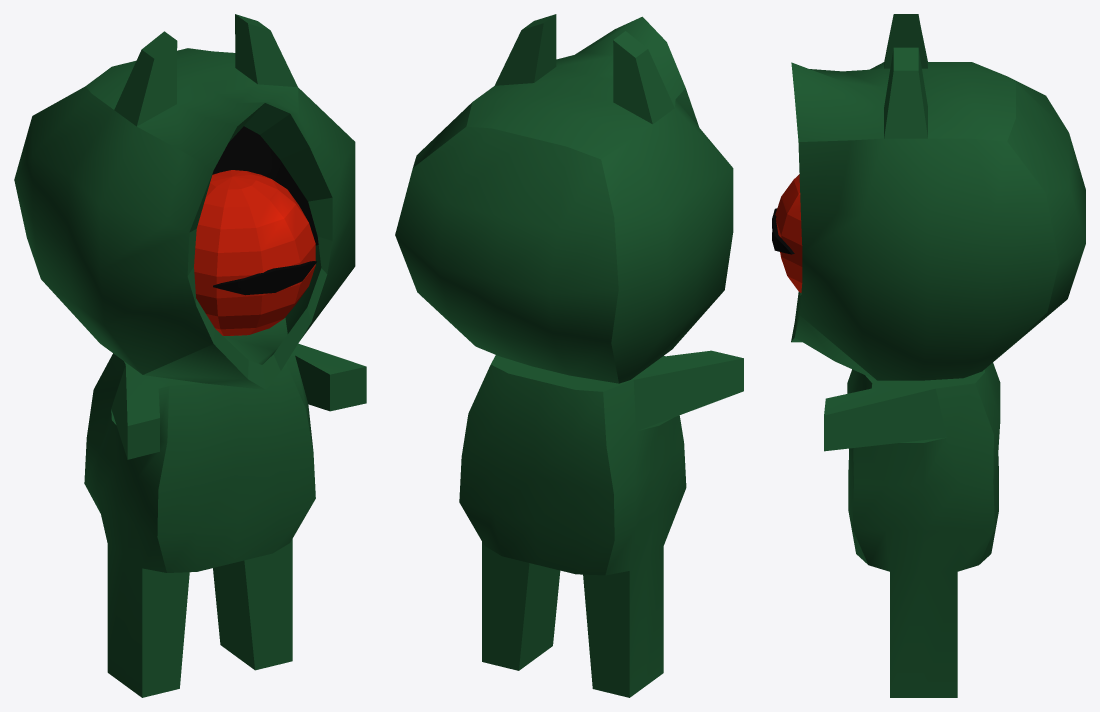
The model's file is COLORmonstermesh.fbx.
3 views of the same model, side by side, from view 1: azimuth 30°, elevation 25°; view 2: azimuth 150°, elevation 25°; view 3: azimuth 270°, elevation 25° (orthographic). The views are drawn at different scales.
Parts seen in each view (by area): view 1: polySurface8; view 2: polySurface8; view 3: polySurface8.
Part boxes in pixels (x1,y1,x2,y2): polySurface8: [14, 14, 366, 697]; polySurface8: [395, 14, 743, 697]; polySurface8: [772, 14, 1085, 697].
Size of the model in its own units: 0.9948 by 2.41 by 1.09.
